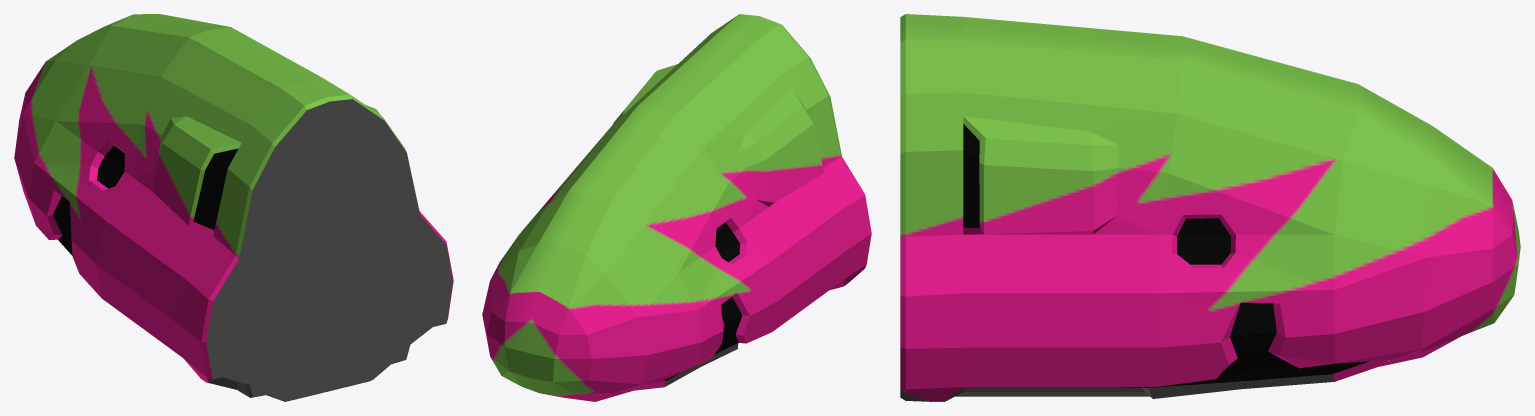
Rendered from SM_Veh_Vintage_01_Rear_Bumper_02.fbx.
3 renders of one model, left to right at view 1: azimuth 30°, elevation 25°; view 2: azimuth 150°, elevation 25°; view 3: azimuth 270°, elevation 25°, orthographic. The views are drawn at different scales.
Parts seen in each view (by area): view 1: SM_Veh_Vintage_01_Rear_Bumper_02; view 2: SM_Veh_Vintage_01_Rear_Bumper_02; view 3: SM_Veh_Vintage_01_Rear_Bumper_02.
Part boxes in pixels (x1=…): SM_Veh_Vintage_01_Rear_Bumper_02: x1=14, y1=14, x2=453, y2=401; SM_Veh_Vintage_01_Rear_Bumper_02: x1=482, y1=14, x2=871, y2=401; SM_Veh_Vintage_01_Rear_Bumper_02: x1=900, y1=14, x2=1520, y2=401.
Size of the model in its own units: 95.58 by 107 by 172.
